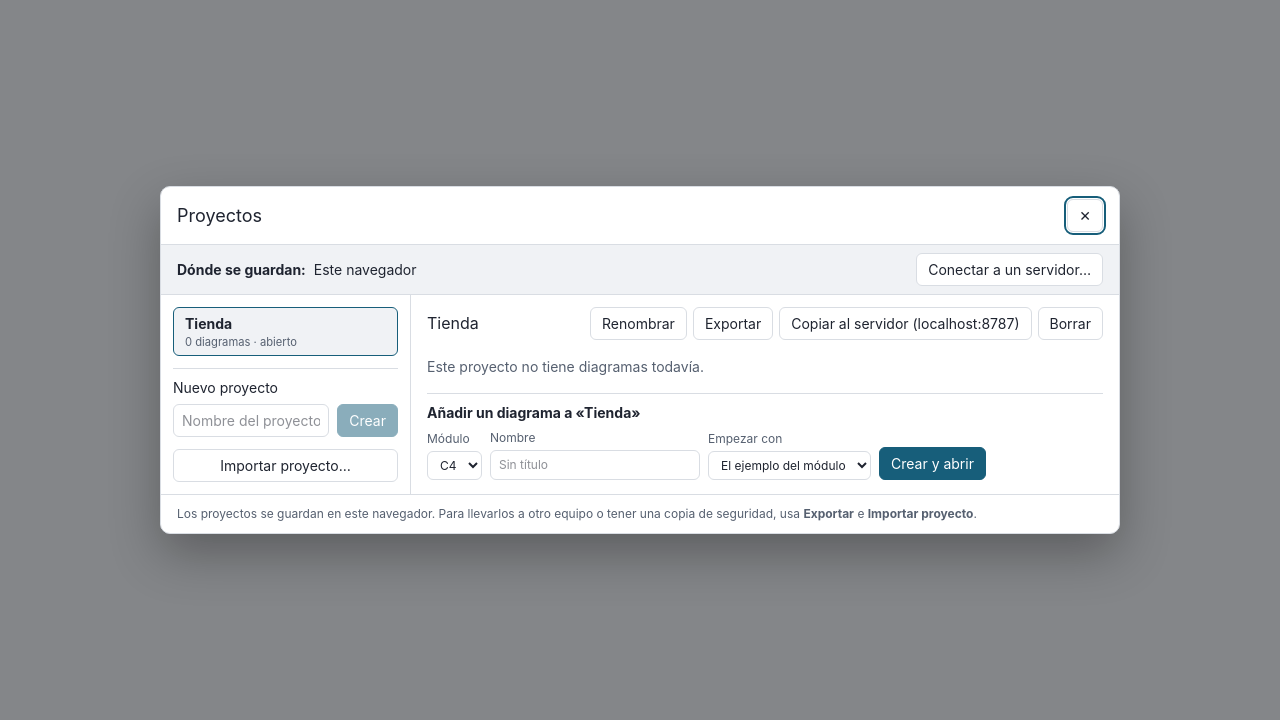
Test: gestor de proyectos con el almacén en la nube › con los proyectos en este navegador › copiar con el servidor conocido pero un token que ya no vale muestra el motivo y abre el formulario para escribirlo de nuevo
Step 1. Click the button "Copiar al servidor (localhost:8787)" → (905,323), box [779,307,1032,340]
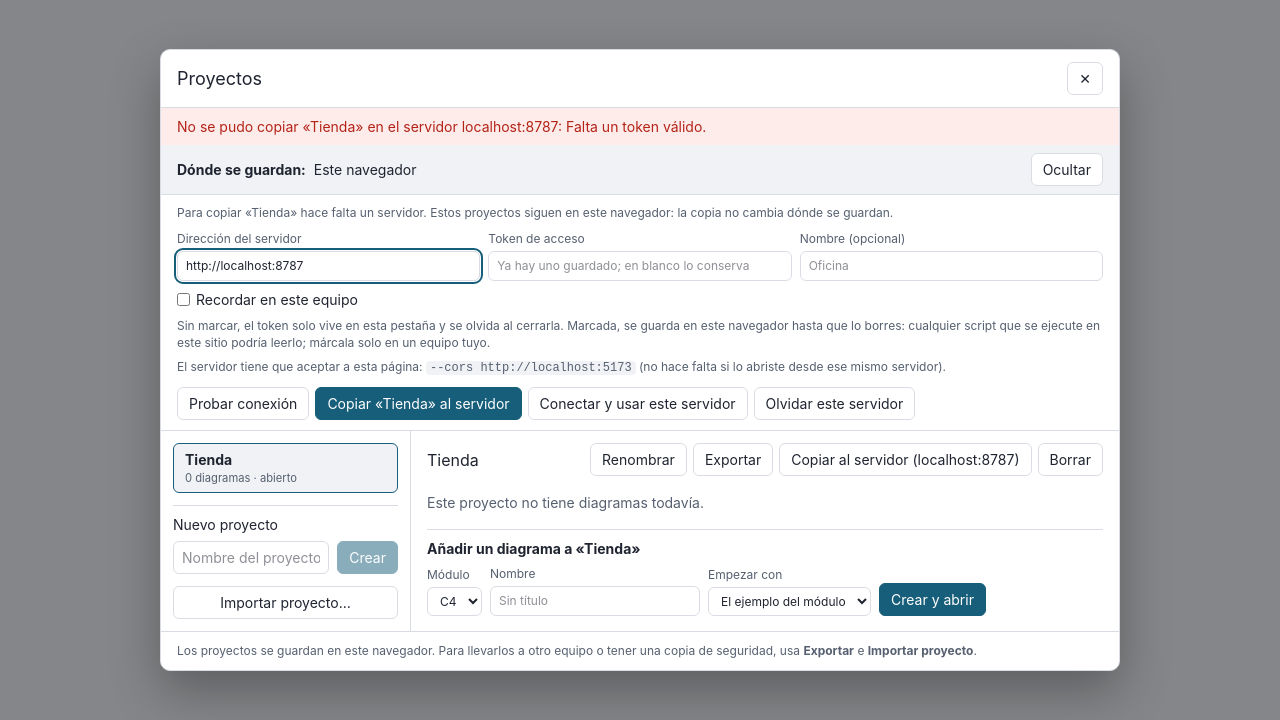
Result: the message with test id "projects-error" shows "No se pudo copiar «Tienda» en el servidor localhost:8787" at [177,118,706,135]
Result: the message with test id "projects-error" shows "Falta un token válido" at [177,118,706,135]
Result: the form named "Conectar a un servidor" is shown at [161,195,1119,420]
